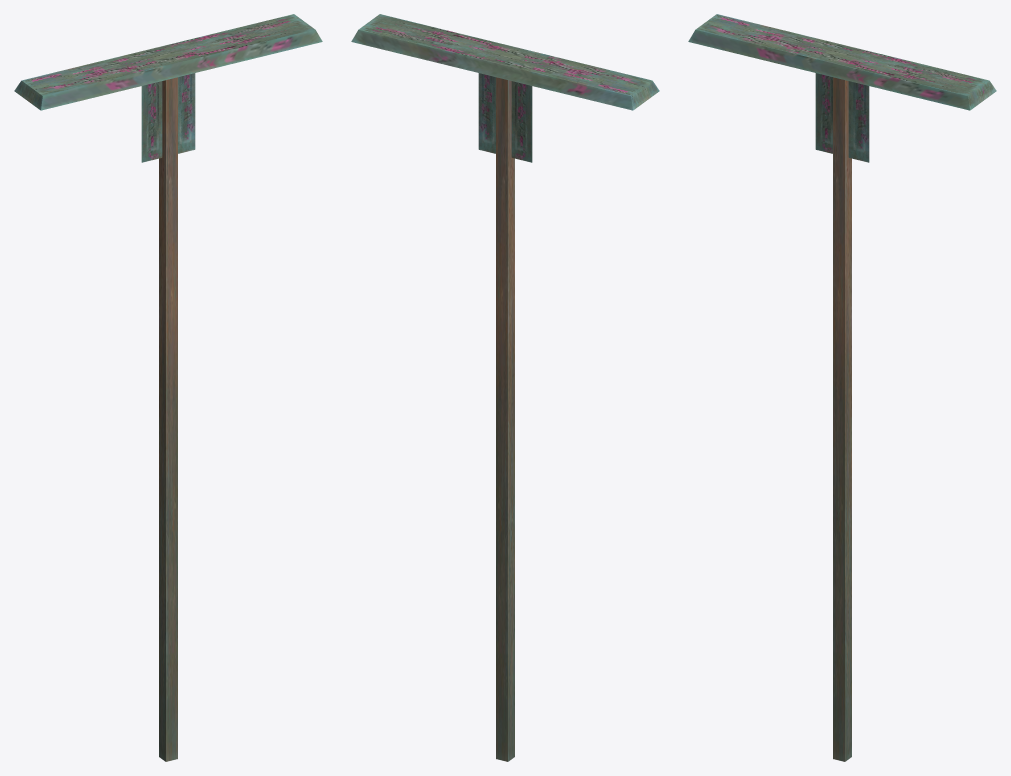
File: mun_all_imprv_streetlamp_m_s01_l1.fbx
The picture shows the model from 3 angles, left to right: view 1: azimuth 30°, elevation 25°; view 2: azimuth 150°, elevation 25°; view 3: azimuth 330°, elevation 25°; orthographic projection.
Parts seen in each view (by area): view 1: mesh_node; view 2: mesh_node; view 3: mesh_node.
Boxes of the visible parts, x1,y1,x2,y2 form: mesh_node: (14, 14, 322, 761); mesh_node: (351, 14, 659, 761); mesh_node: (688, 14, 996, 761).
Size of the model in its own units: 1.25 by 2.98 by 0.2055.
